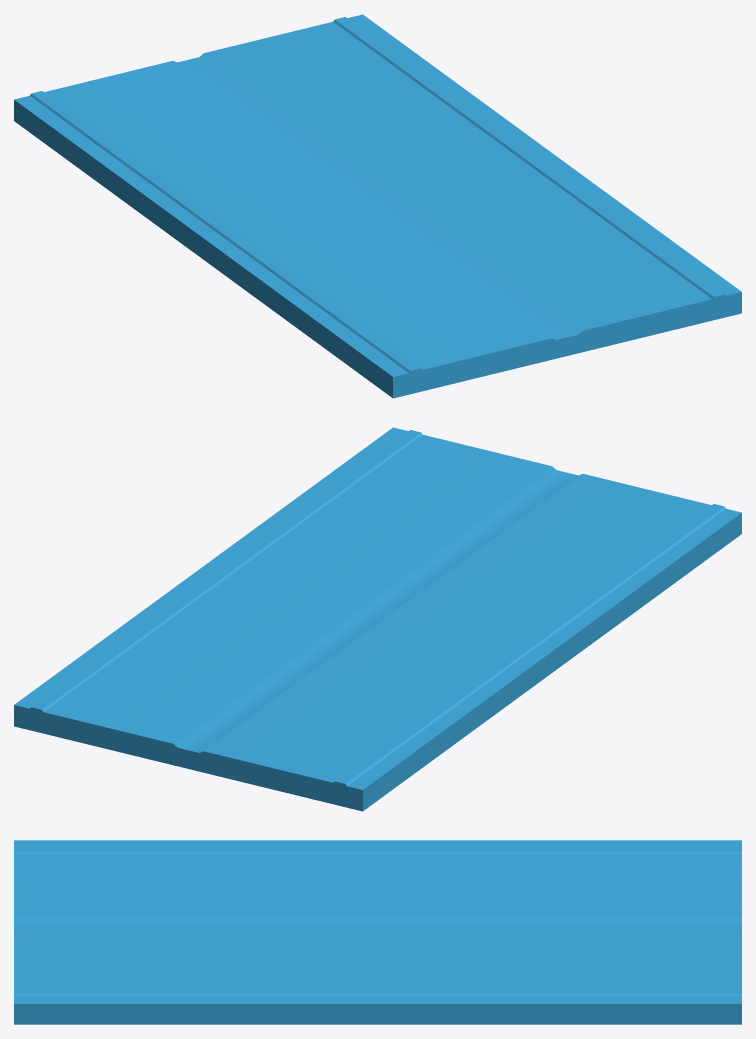
Rendered from ShipFloor8m.fbx.
3 renders of one model, top to bottom at view 1: azimuth 30°, elevation 25°; view 2: azimuth 150°, elevation 25°; view 3: azimuth 270°, elevation 25°, orthographic. The views are drawn at different scales.
Visible parts, largest first — view 1: Floor8m; view 2: Floor8m; view 3: Floor8m.
Boxes of the visible parts, x1,y1,x2,y2 form: Floor8m: [14, 14, 741, 398]; Floor8m: [14, 427, 741, 811]; Floor8m: [14, 840, 741, 1024].
Bounding box in the file's own units: 4.25 × 0.2716 × 8.
